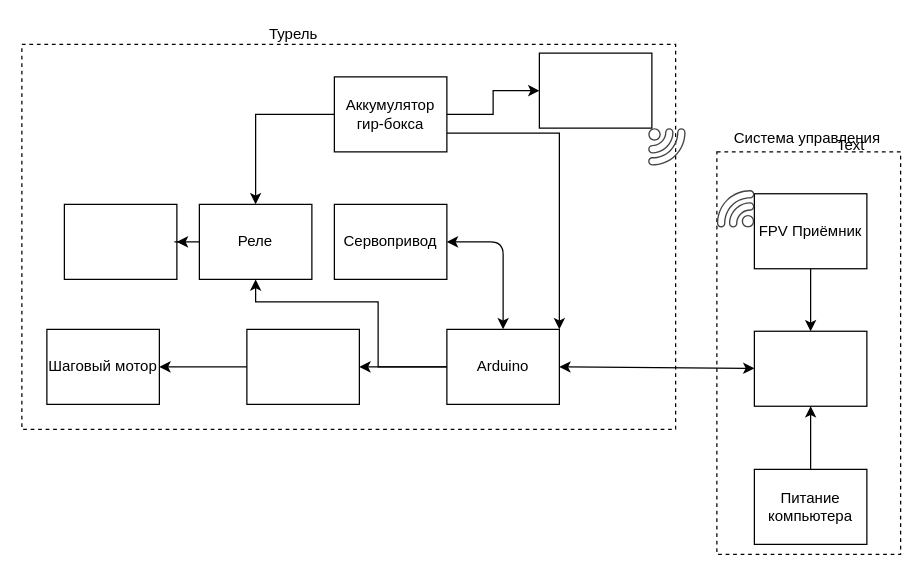
Image size: 923x576. Some labels were removed from this diagram. The shapes that lost their labels are listed below. From the top down, each one's box as (x1, y1, x2, y2) in pixels, then its label:
(538, 52, 652, 128): Камера
(63, 203, 177, 279): Мотор для выстрела
(246, 328, 359, 404): Драйвер шагового мотора
(753, 330, 867, 406): Компьютер (например RPI)
